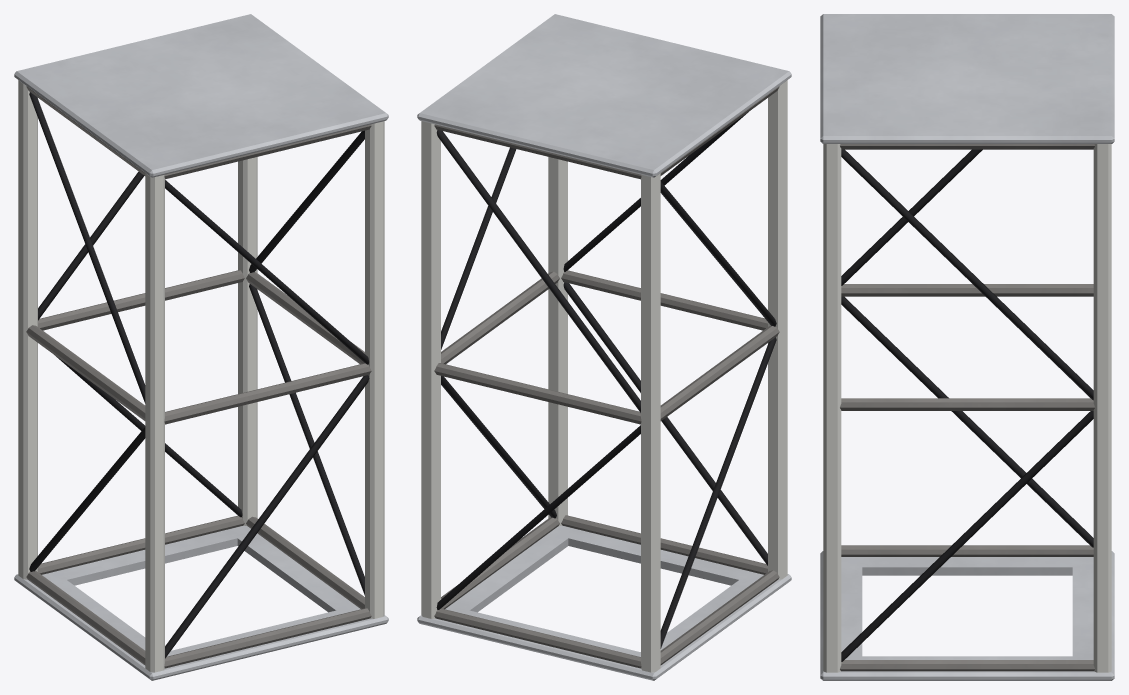
File: ax_gear_08_square_truss_s.glb
The picture shows the model from 3 angles, left to right: view 1: azimuth 30°, elevation 25°; view 2: azimuth 150°, elevation 25°; view 3: azimuth 270°, elevation 25°; orthographic projection. The views are drawn at different scales.
Parts seen in each view (by area): view 1: end_frames, longerons, battens, diagonals; view 2: end_frames, longerons, battens, diagonals; view 3: end_frames, longerons, battens, diagonals.
Part boxes in pixels (box(x1,y1,x2,y2)): end_frames: box(14, 14, 388, 680); longerons: box(18, 80, 384, 672); battens: box(26, 86, 371, 668); diagonals: box(29, 92, 369, 658); end_frames: box(417, 14, 791, 680); longerons: box(421, 80, 787, 672); battens: box(434, 86, 779, 668); diagonals: box(436, 112, 776, 648); end_frames: box(820, 14, 1114, 680); longerons: box(823, 144, 1111, 672); battens: box(840, 144, 1094, 671); diagonals: box(841, 149, 1093, 661).
Size of the model in its own units: 0.98 by 2 by 0.98.
4 materials, 2 textured.
